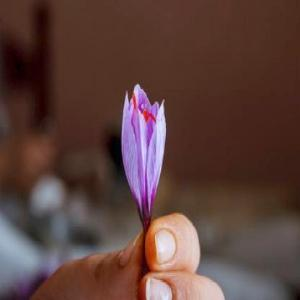Saffron: (121, 82, 167, 235)
